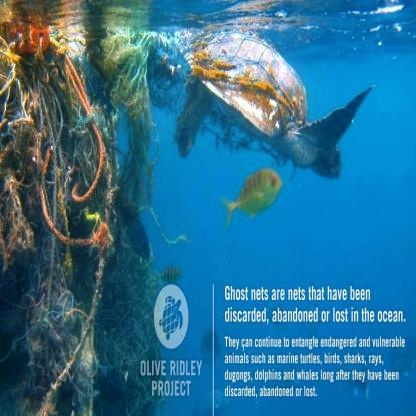net: (0, 40, 148, 416)
